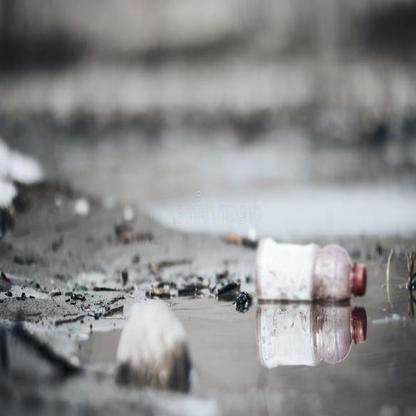plastic bottle: (255, 238, 367, 300)
